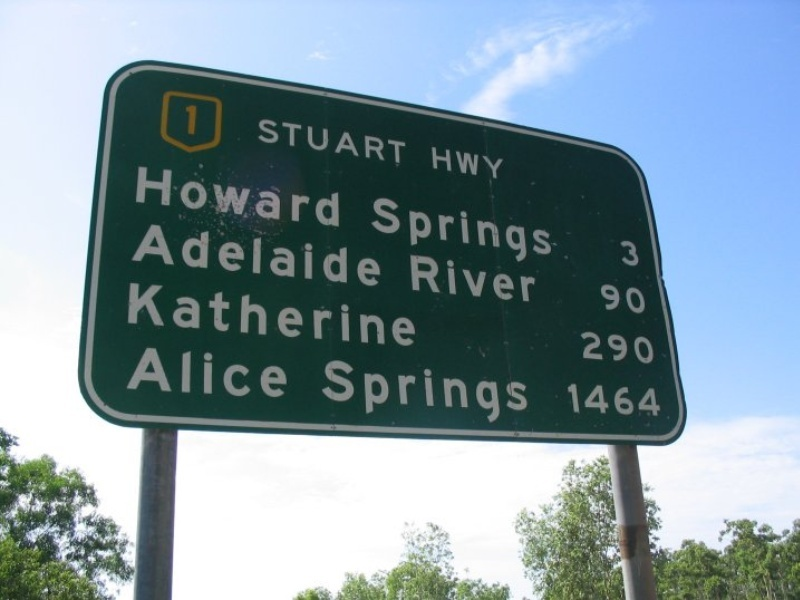text: (385, 193, 400, 266), (401, 193, 416, 266), (417, 193, 432, 266), (433, 193, 448, 266), (449, 193, 464, 266), (465, 193, 480, 266), (481, 193, 496, 266), (497, 193, 512, 266), (513, 193, 528, 266), (529, 193, 544, 266), (513, 357, 529, 425), (337, 357, 352, 425), (353, 357, 368, 425), (369, 357, 384, 425), (385, 357, 400, 425), (401, 357, 416, 425), (417, 357, 432, 425), (433, 357, 448, 425), (449, 357, 464, 425), (465, 357, 480, 425), (481, 357, 496, 425), (497, 357, 512, 425), (129, 282, 144, 347), (145, 282, 160, 347), (161, 282, 176, 347), (177, 282, 192, 347), (193, 282, 208, 347), (209, 282, 224, 347), (225, 282, 240, 347), (241, 282, 256, 347), (257, 282, 272, 347), (273, 282, 288, 347), (289, 282, 304, 347), (305, 282, 320, 347), (321, 282, 336, 347), (337, 282, 352, 347), (353, 282, 368, 347), (369, 282, 384, 347), (385, 282, 400, 347), (401, 282, 416, 347), (145, 164, 160, 228), (161, 164, 176, 228), (177, 164, 192, 228), (193, 164, 208, 228), (209, 164, 224, 228), (225, 164, 240, 228), (241, 164, 256, 228), (257, 164, 272, 228), (273, 164, 288, 228), (289, 164, 304, 228), (305, 164, 320, 228), (321, 164, 336, 228), (161, 224, 176, 288), (177, 224, 192, 288), (193, 224, 208, 288), (209, 224, 224, 288), (225, 224, 240, 288), (241, 224, 256, 288), (257, 224, 272, 288), (273, 224, 288, 288), (289, 224, 304, 288), (305, 224, 320, 288), (321, 224, 336, 288), (337, 224, 352, 288), (353, 224, 368, 288), (322, 357, 336, 425), (372, 193, 384, 266), (147, 224, 160, 288), (369, 224, 382, 288), (545, 193, 556, 266), (145, 346, 160, 399), (161, 346, 176, 399), (177, 346, 192, 399), (193, 346, 208, 399), (209, 346, 224, 399), (225, 346, 240, 399), (241, 346, 256, 399), (257, 346, 272, 399), (273, 346, 287, 399), (417, 254, 432, 303), (433, 254, 448, 303), (449, 254, 464, 303), (465, 254, 480, 303), (481, 254, 496, 303), (497, 254, 512, 303), (513, 254, 528, 303), (273, 118, 288, 163), (289, 118, 304, 163), (305, 118, 320, 163), (321, 118, 336, 163), (337, 118, 352, 163), (353, 118, 368, 163), (369, 118, 384, 163), (385, 118, 400, 163), (258, 118, 272, 163), (593, 328, 608, 367), (609, 328, 624, 367), (625, 328, 640, 367), (641, 328, 656, 367), (609, 280, 624, 316), (625, 280, 640, 316), (577, 382, 592, 416), (593, 382, 608, 416), (609, 382, 624, 416), (625, 382, 640, 416), (641, 382, 656, 416), (433, 147, 448, 180), (449, 147, 464, 180), (465, 147, 480, 180), (481, 147, 496, 180), (625, 237, 640, 270), (580, 328, 592, 367), (137, 164, 144, 228), (529, 254, 538, 303), (409, 254, 416, 303), (566, 382, 576, 416), (600, 280, 608, 316), (641, 280, 649, 316), (401, 118, 407, 163), (497, 147, 505, 180), (657, 382, 664, 416), (185, 104, 192, 138), (193, 104, 200, 138), (140, 346, 144, 399), (618, 237, 624, 270), (337, 164, 340, 228), (657, 328, 659, 367), (641, 237, 642, 270)
